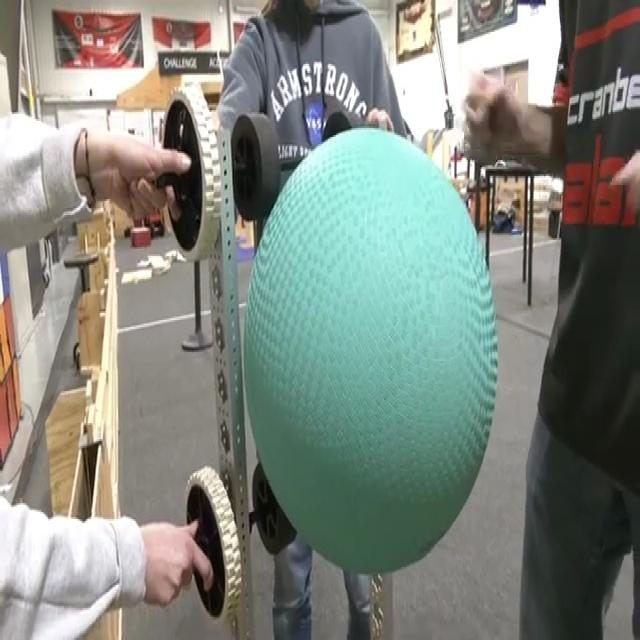Algae: (242, 125, 499, 574)
